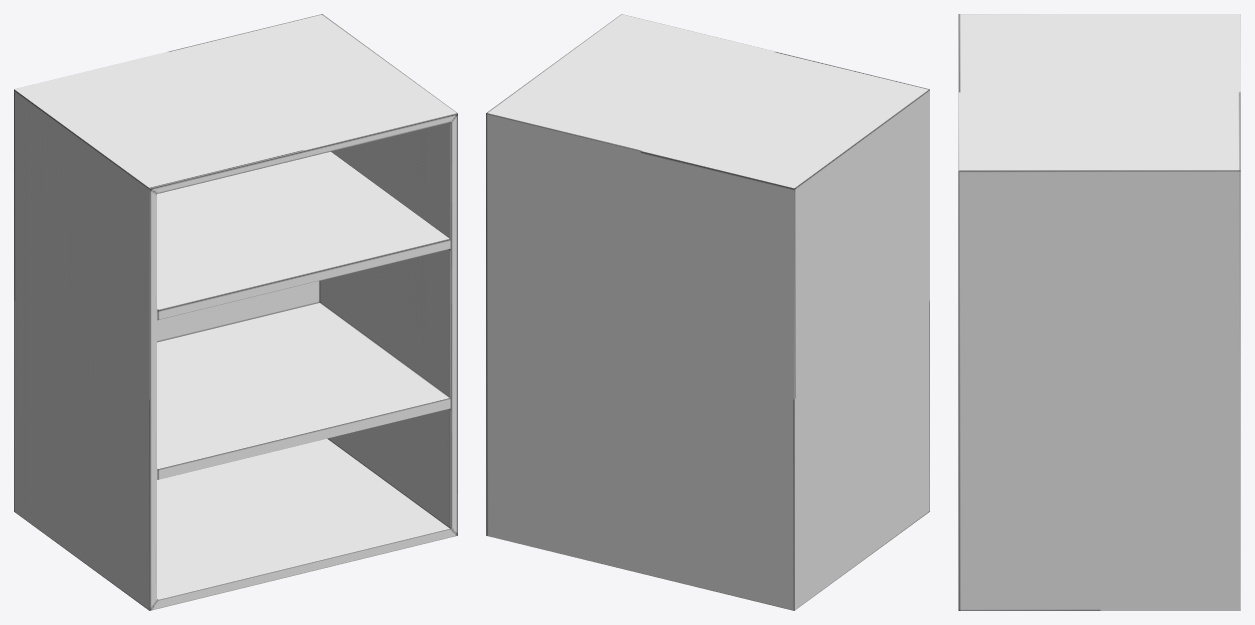
3 views of the same model, side by side, from view 1: azimuth 30°, elevation 25°; view 2: azimuth 150°, elevation 25°; view 3: azimuth 270°, elevation 25° (orthographic). The views are drawn at different scales.
Visible parts, largest first — view 1: 桌旁柜; view 2: 桌旁柜; view 3: 桌旁柜.
Boxes of the visible parts, x1,y1,x2,y2 form: 桌旁柜: [14, 14, 457, 610]; 桌旁柜: [486, 14, 929, 610]; 桌旁柜: [958, 14, 1240, 610].
Size of the model in its own units: 10.19 by 13.35 by 7.76.
